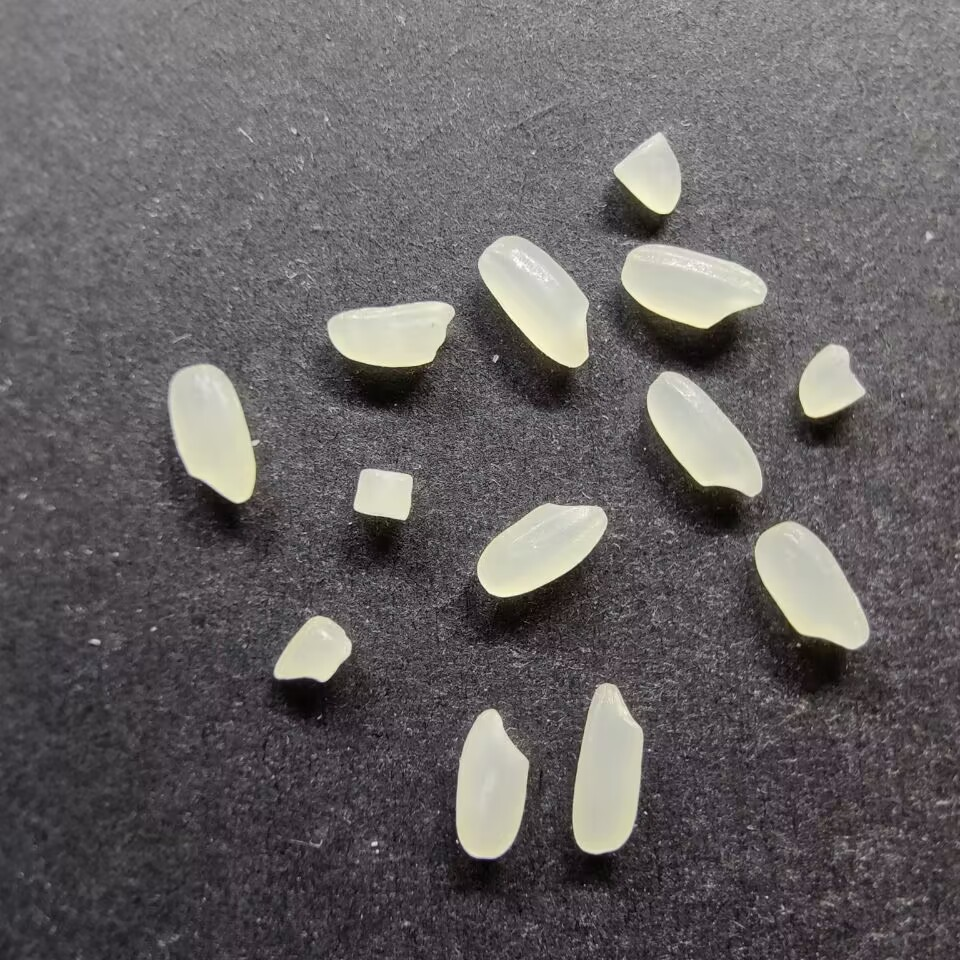broken: (611, 131, 682, 217), (270, 614, 353, 685), (796, 343, 866, 418), (351, 467, 415, 522)
rice: (644, 368, 765, 497), (752, 519, 871, 650), (476, 233, 591, 368), (619, 241, 769, 331), (569, 681, 644, 855), (474, 500, 607, 598), (165, 362, 256, 504), (453, 708, 530, 860), (325, 298, 456, 368)
